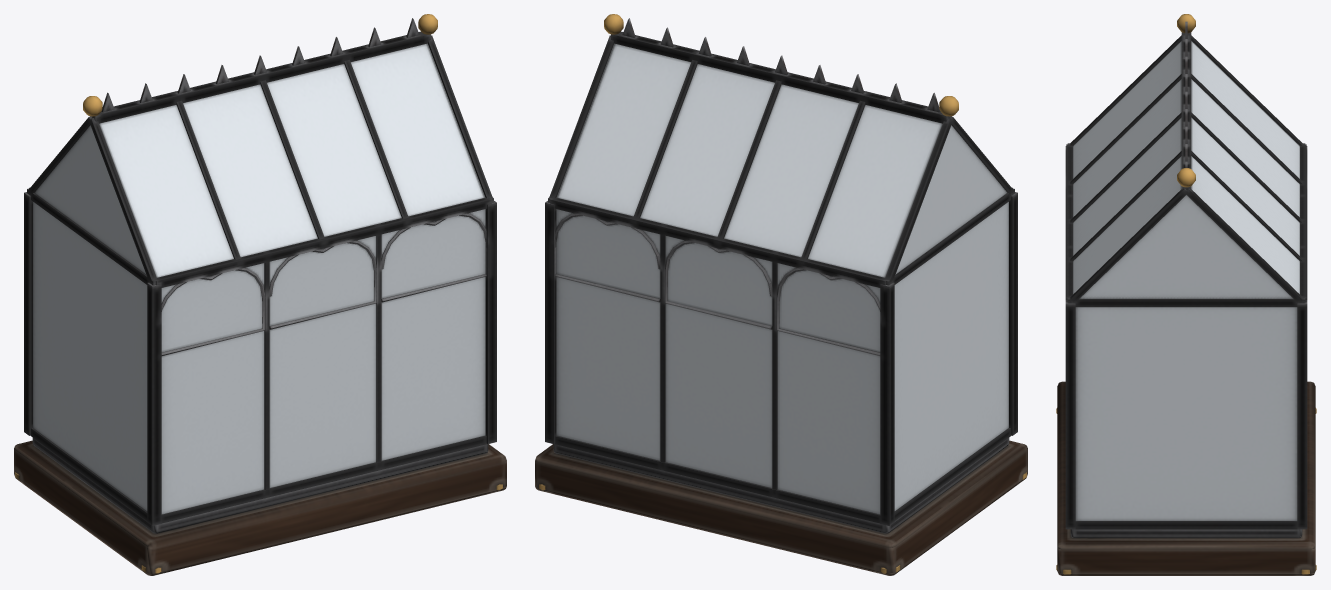
The model's file is Terrarium.fbx.
3 renders of one model, left to right at view 1: azimuth 30°, elevation 25°; view 2: azimuth 150°, elevation 25°; view 3: azimuth 270°, elevation 25°, orthographic. The views are drawn at different scales.
Visible parts, largest first — view 1: Terrarium_Glass, Terrarium_Main; view 2: Terrarium_Glass, Terrarium_Main; view 3: Terrarium_Glass, Terrarium_Main.
Part boxes in pixels (<box>): Terrarium_Glass: <box>33,43,485,514</box>; Terrarium_Main: <box>14,14,506,575</box>; Terrarium_Glass: <box>556,43,1008,514</box>; Terrarium_Main: <box>535,14,1027,575</box>; Terrarium_Glass: <box>1073,41,1299,520</box>; Terrarium_Main: <box>1056,14,1316,575</box>.
Bounding box in the file's own units: 237 × 269 × 157.
